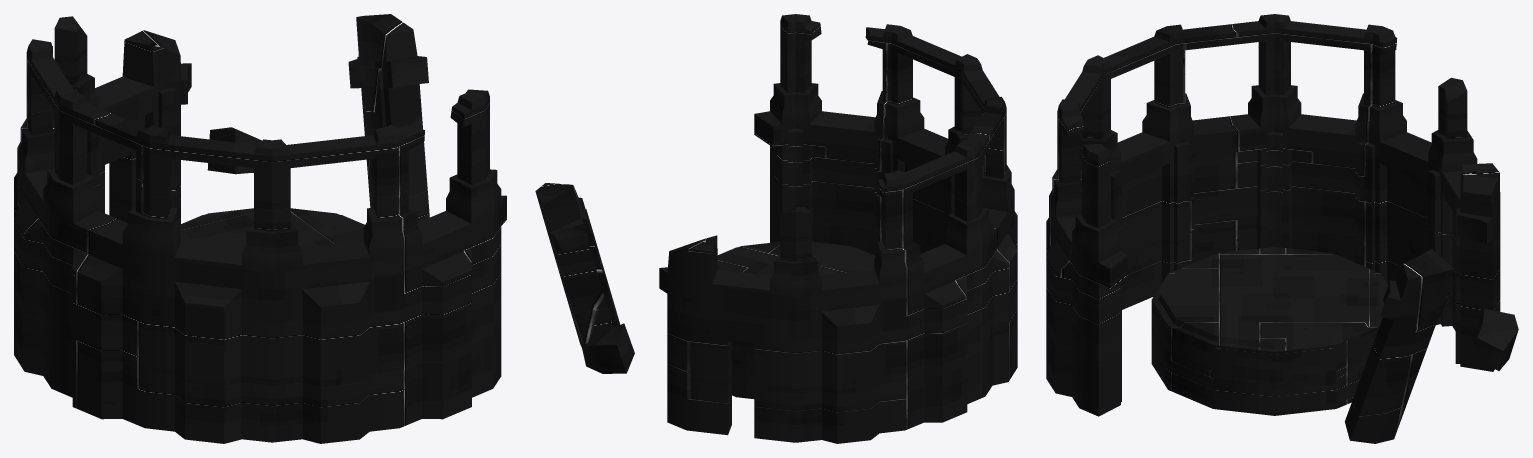
The model's file is Spawn.FBX.
The picture shows the model from 3 angles, left to right: view 1: azimuth 30°, elevation 25°; view 2: azimuth 150°, elevation 25°; view 3: azimuth 270°, elevation 25°; orthographic projection. The views are drawn at different scales.
Visible parts, largest first — view 1: Spawn_001; view 2: Spawn_001; view 3: Spawn_001.
Part boxes in pixels (x1,y1,x2,y2): Spawn_001: [14, 14, 506, 443]; Spawn_001: [535, 14, 1017, 443]; Spawn_001: [1046, 14, 1518, 443].
Bounding box in the file's own units: 1174 × 743 × 1230.
